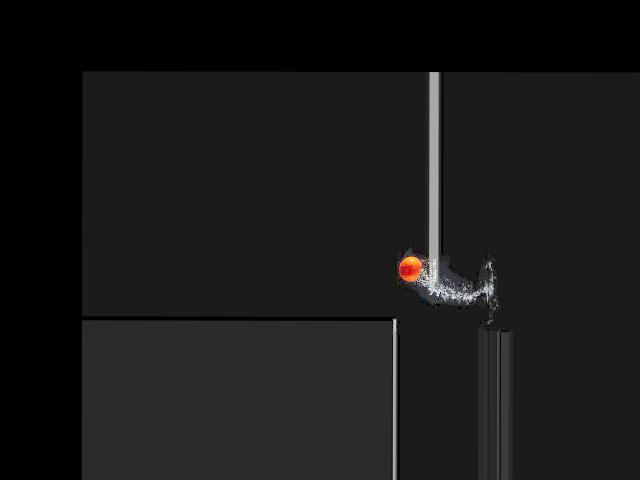tomato: (399, 256, 422, 281)
